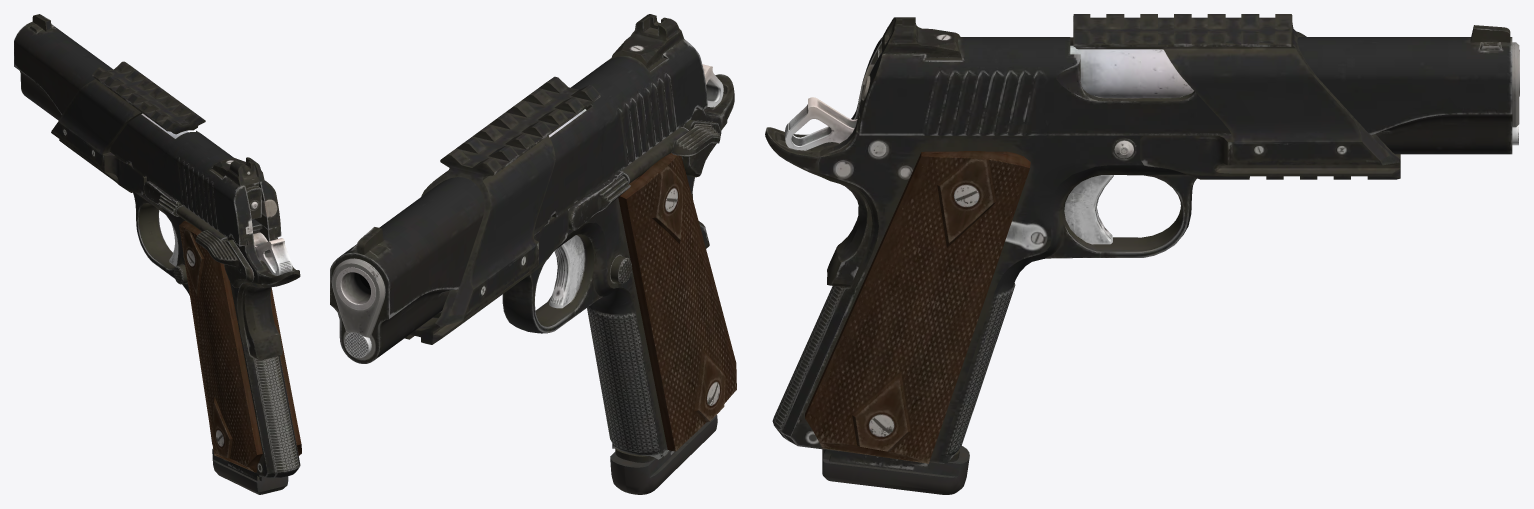
3 views of the same model, side by side, from view 1: azimuth 30°, elevation 25°; view 2: azimuth 150°, elevation 25°; view 3: azimuth 270°, elevation 25° (orthographic). The views are drawn at different scales.
Parts seen in each view (by area): view 1: FRAME_LOD0.002, FRAME_LOD0.001; view 2: FRAME_LOD0.002, FRAME_LOD0.001; view 3: FRAME_LOD0.002, FRAME_LOD0.001.
Boxes of the visible parts, x1,y1,x2,y2 form: FRAME_LOD0.002: [14, 14, 301, 494]; FRAME_LOD0.001: [51, 61, 205, 195]; FRAME_LOD0.002: [330, 14, 736, 494]; FRAME_LOD0.001: [404, 76, 600, 344]; FRAME_LOD0.002: [765, 17, 1519, 494]; FRAME_LOD0.001: [1073, 14, 1400, 179].
Bounding box in the file's own units: 0.0372 × 0.1598 × 0.234.
Materials: 1 (1 with a texture image).
